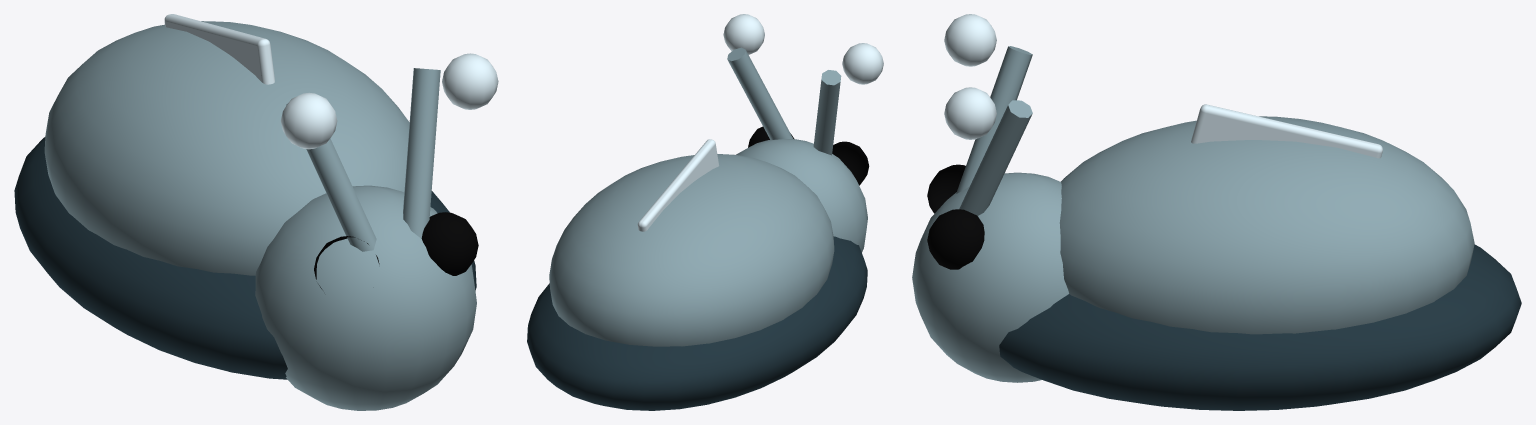
The model's file is remolino.obj.
3 views of the same model, side by side, from view 1: azimuth 30°, elevation 25°; view 2: azimuth 150°, elevation 25°; view 3: azimuth 270°, elevation 25° (orthographic). The views are drawn at different scales.
Bounding box in the file's own units: 0.424 × 0.4007 × 0.6858.
